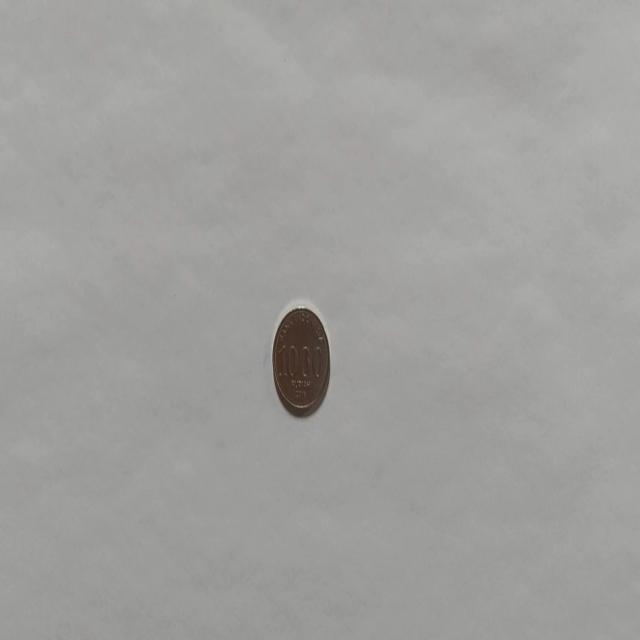seribu rupiah koin: (270, 300, 330, 418)
